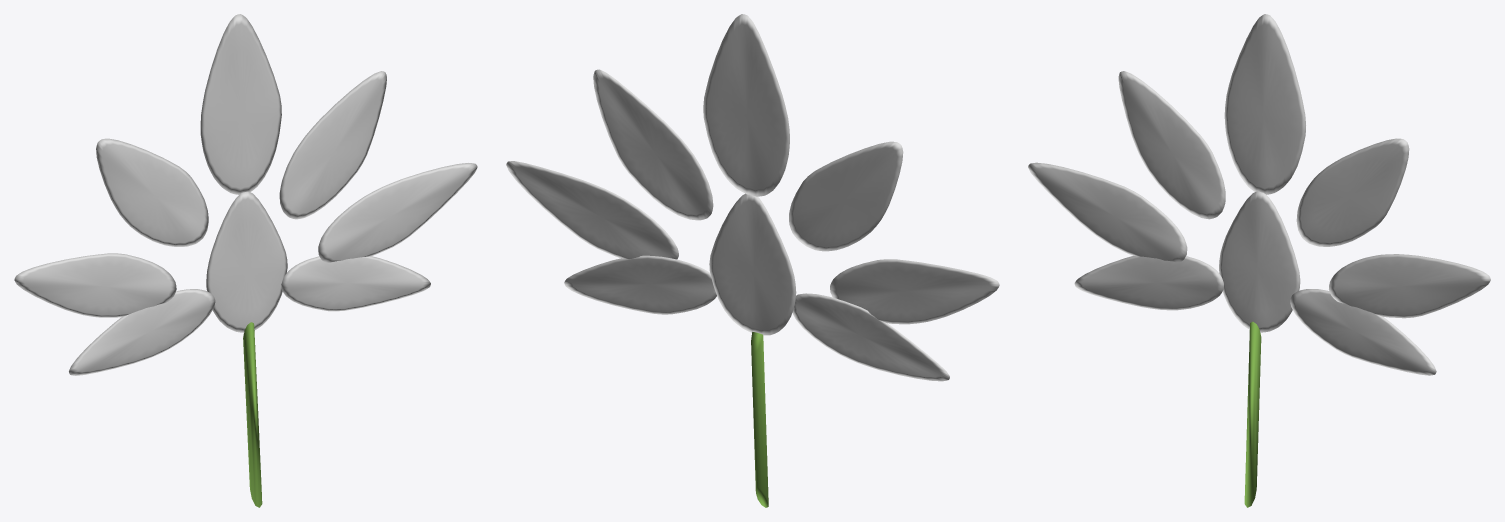
The model's file is Foliage.fbx.
3 views of the same model, side by side, from view 1: azimuth 30°, elevation 25°; view 2: azimuth 150°, elevation 25°; view 3: azimuth 330°, elevation 25° (orthographic). The views are drawn at different scales.
Parts seen in each view (by area): view 1: Palmate_Leaf, Stem; view 2: Palmate_Leaf, Stem; view 3: Palmate_Leaf, Stem.
Boxes of the visible parts, left/top/right/bottom form: Palmate_Leaf: left=14, top=14, right=477, bottom=375; Stem: left=243, top=322, right=262, bottom=507; Palmate_Leaf: left=506, top=14, right=999, bottom=381; Stem: left=751, top=332, right=768, bottom=507; Palmate_Leaf: left=1028, top=14, right=1490, bottom=375; Stem: left=1244, top=321, right=1261, bottom=507.
Size of the model in its own units: 206 by 203 by 16.09.
